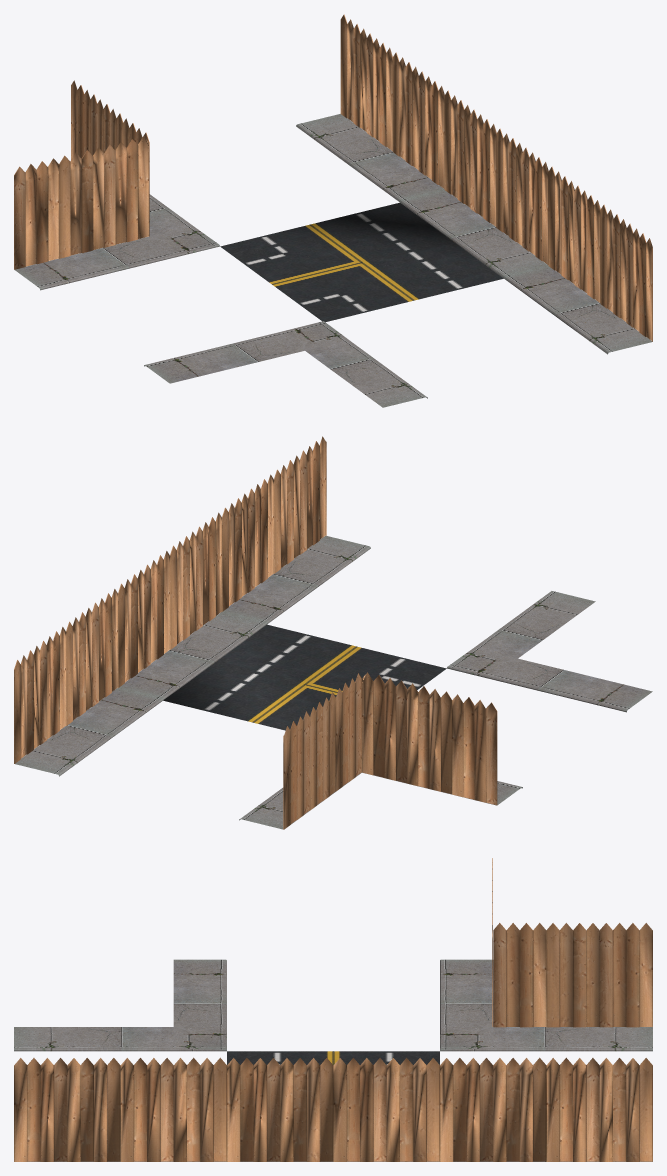
Rendered from road_intersection_fence_1_1_0.obj.
The picture shows the model from 3 angles, top to bottom: view 1: azimuth 30°, elevation 25°; view 2: azimuth 150°, elevation 25°; view 3: azimuth 270°, elevation 25°; orthographic projection. The views are drawn at different scales.
Parts seen in each view (by area): view 1: ROAD_TILE_Plane.016; view 2: ROAD_TILE_Plane.016; view 3: ROAD_TILE_Plane.016.
Part boxes in pixels (<box>): ROAD_TILE_Plane.016: <box>14,14,652,407</box>; ROAD_TILE_Plane.016: <box>14,436,652,829</box>; ROAD_TILE_Plane.016: <box>14,858,652,1161</box>.
Bounding box in the file's own units: 45 × 11.01 × 60.01.
